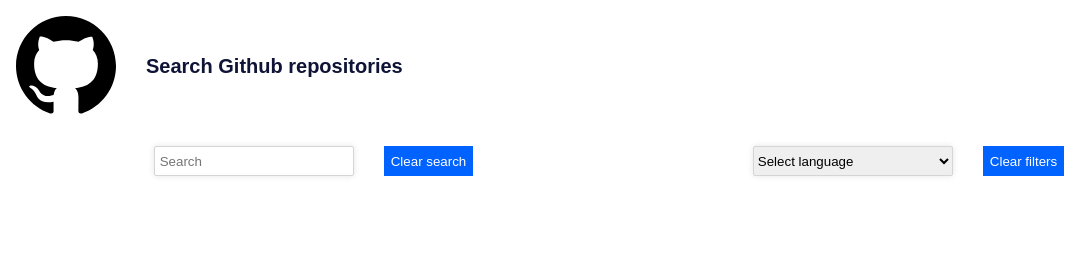
Searching for non existing repo should display empty search message
Type "non existing repo" into the field with test id "search-input" at (254, 161), box [154,146,354,176]
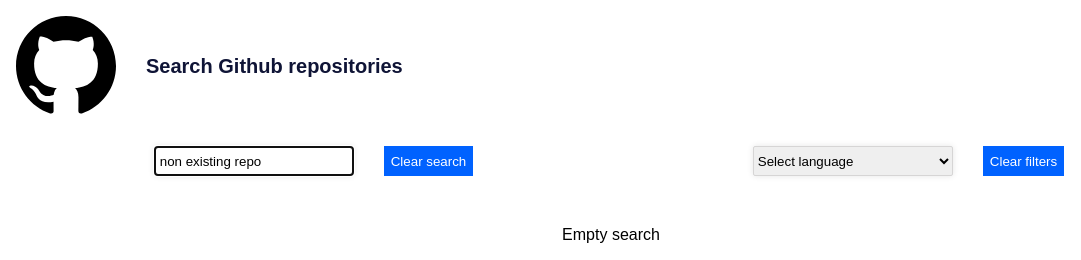
expect the text "Empty search" is shown: met, box [562,226,660,243]
